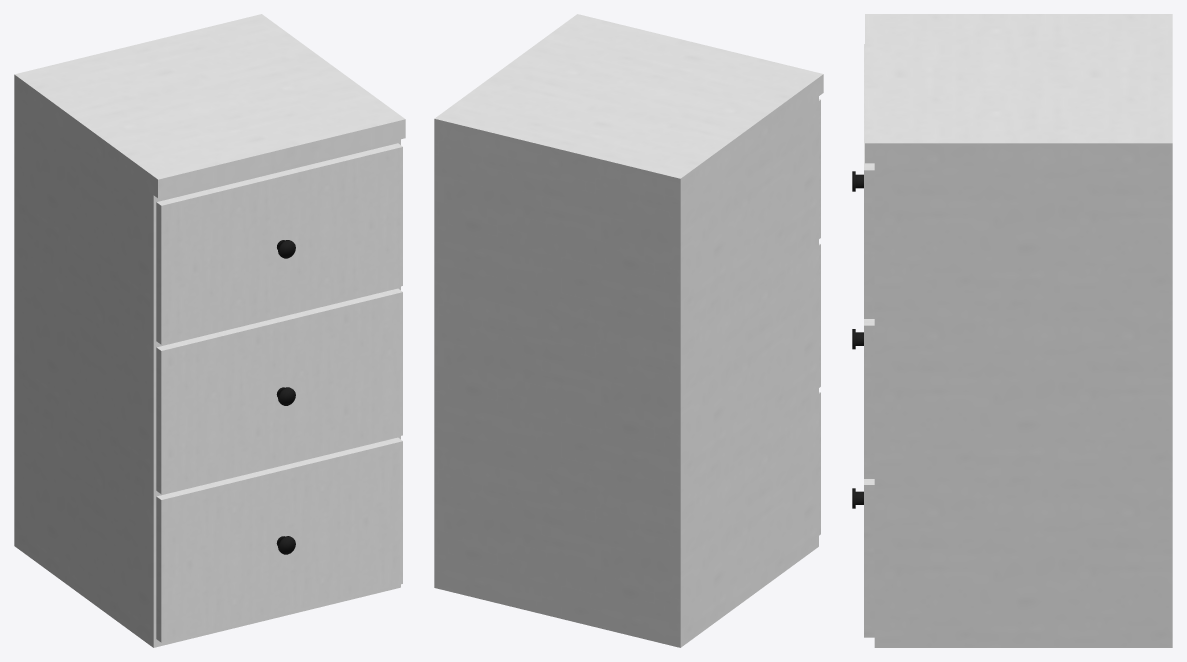
The model's file is Drawer04.fbx.
3 views of the same model, side by side, from view 1: azimuth 30°, elevation 25°; view 2: azimuth 150°, elevation 25°; view 3: azimuth 270°, elevation 25° (orthographic). The views are drawn at different scales.
Visible parts, largest first — view 1: Drawer_Body04, Drawer04_2, Drawer04_3, Drawer04_1; view 2: Drawer_Body04; view 3: Drawer_Body04, Drawer04_1, Drawer04_2, Drawer04_3.
Boxes of the visible parts, x1,y1,x2,y2 form: Drawer_Body04: [14, 14, 405, 647]; Drawer04_2: [156, 288, 402, 494]; Drawer04_3: [156, 437, 402, 642]; Drawer04_1: [156, 143, 402, 344]; Drawer_Body04: [434, 14, 823, 647]; Drawer_Body04: [865, 14, 1172, 647]; Drawer04_1: [852, 44, 874, 318]; Drawer04_2: [852, 319, 874, 478]; Drawer04_3: [852, 479, 874, 637].
Size of the model in its own units: 37.86 by 68.94 by 39.65.
